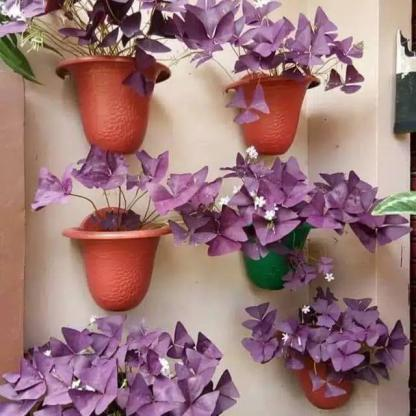Kupu-Kupu: (1, 325, 242, 410), (173, 165, 391, 235), (196, 6, 358, 91), (259, 306, 407, 369)
